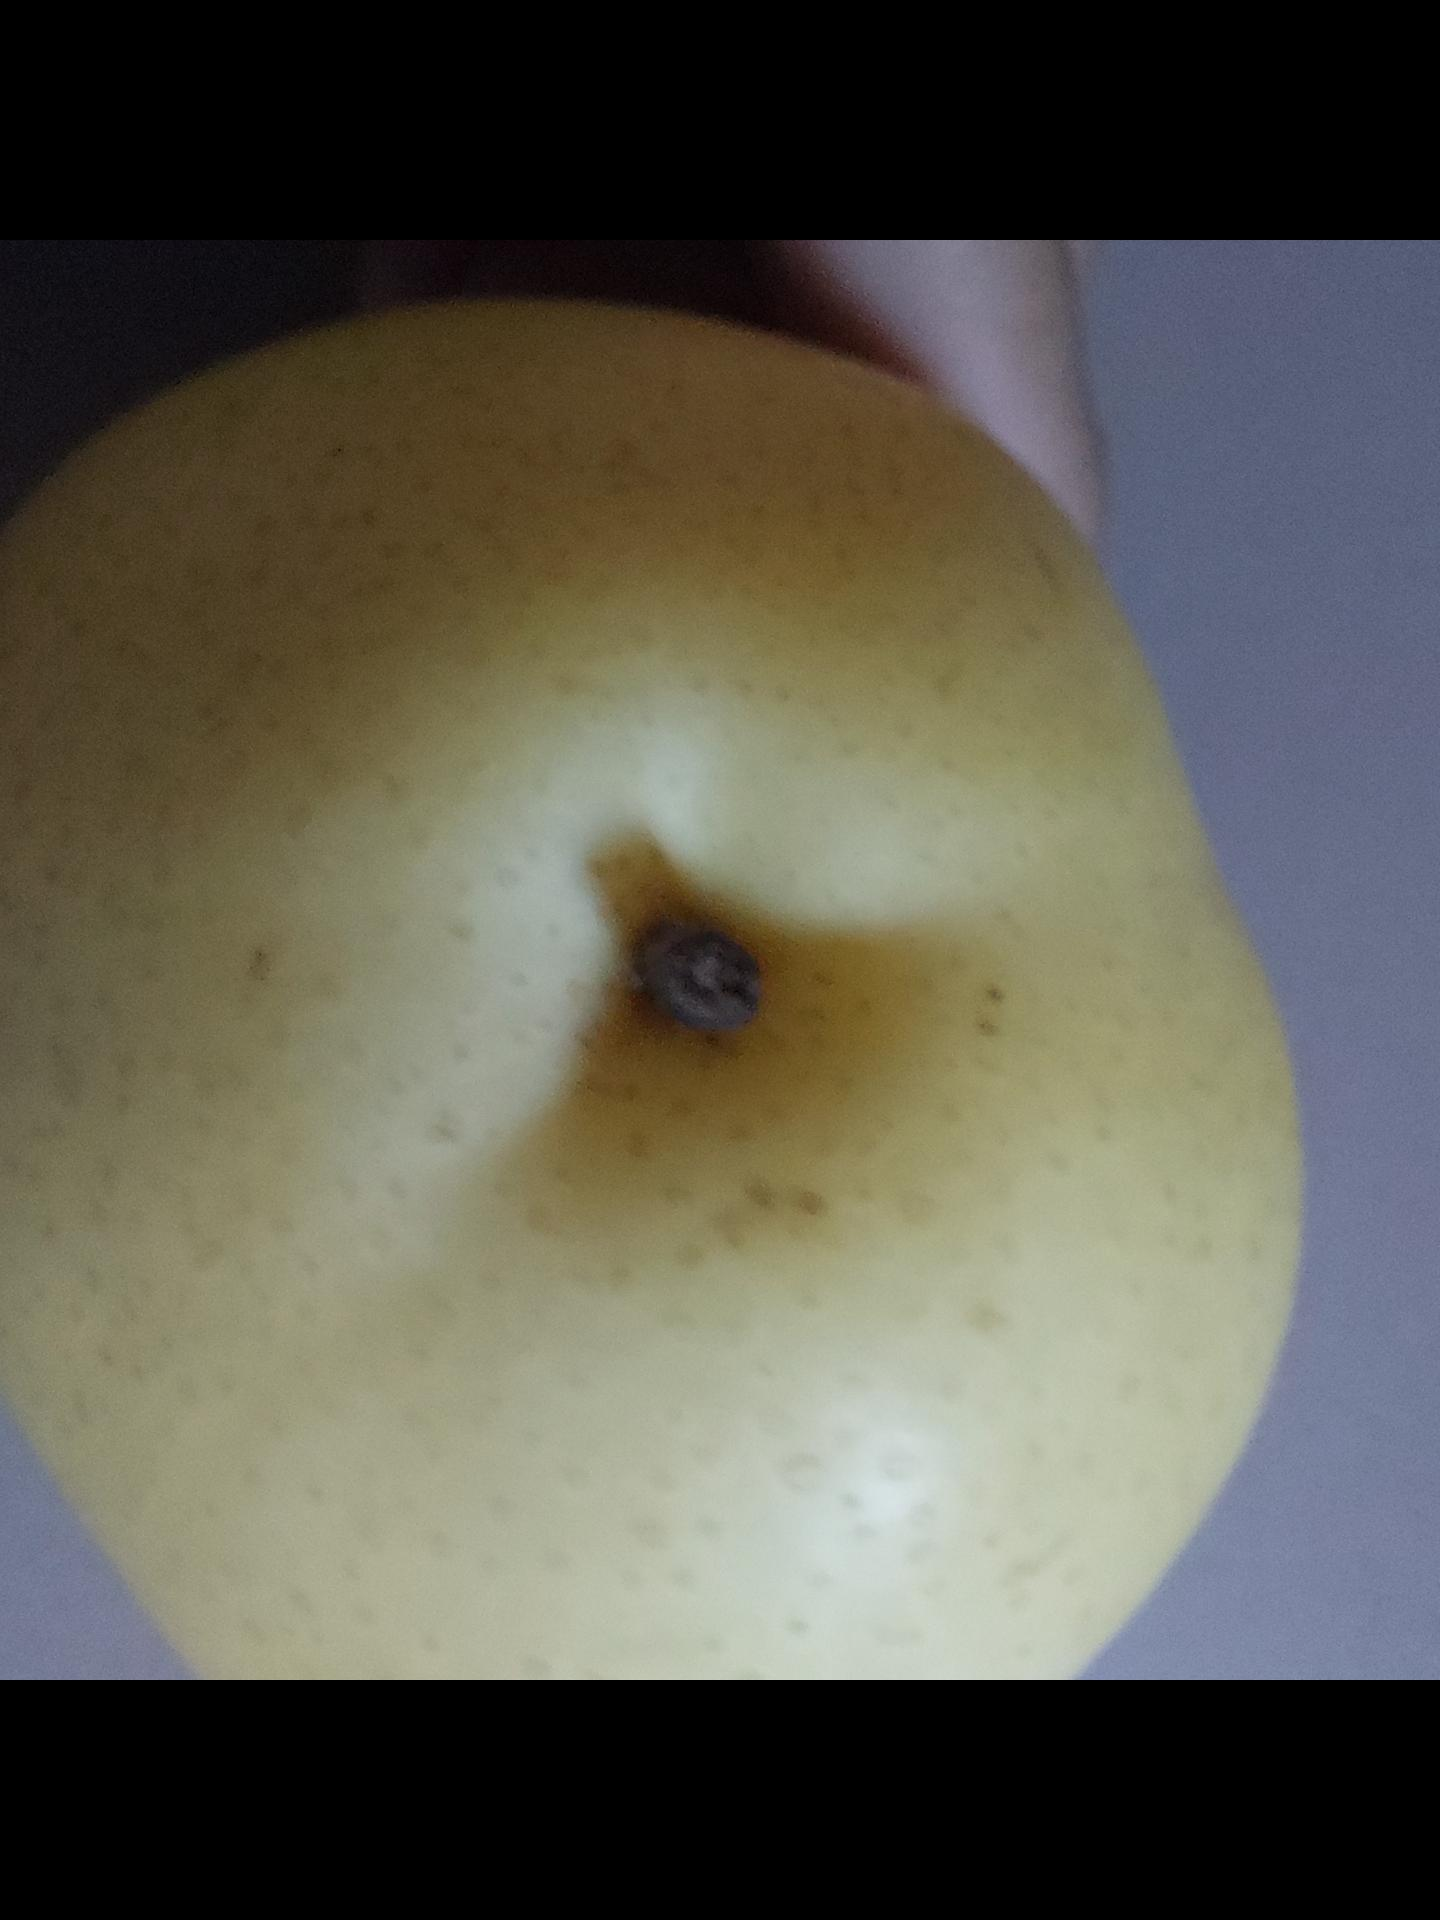Good Pear: (0, 305, 1298, 1680)
